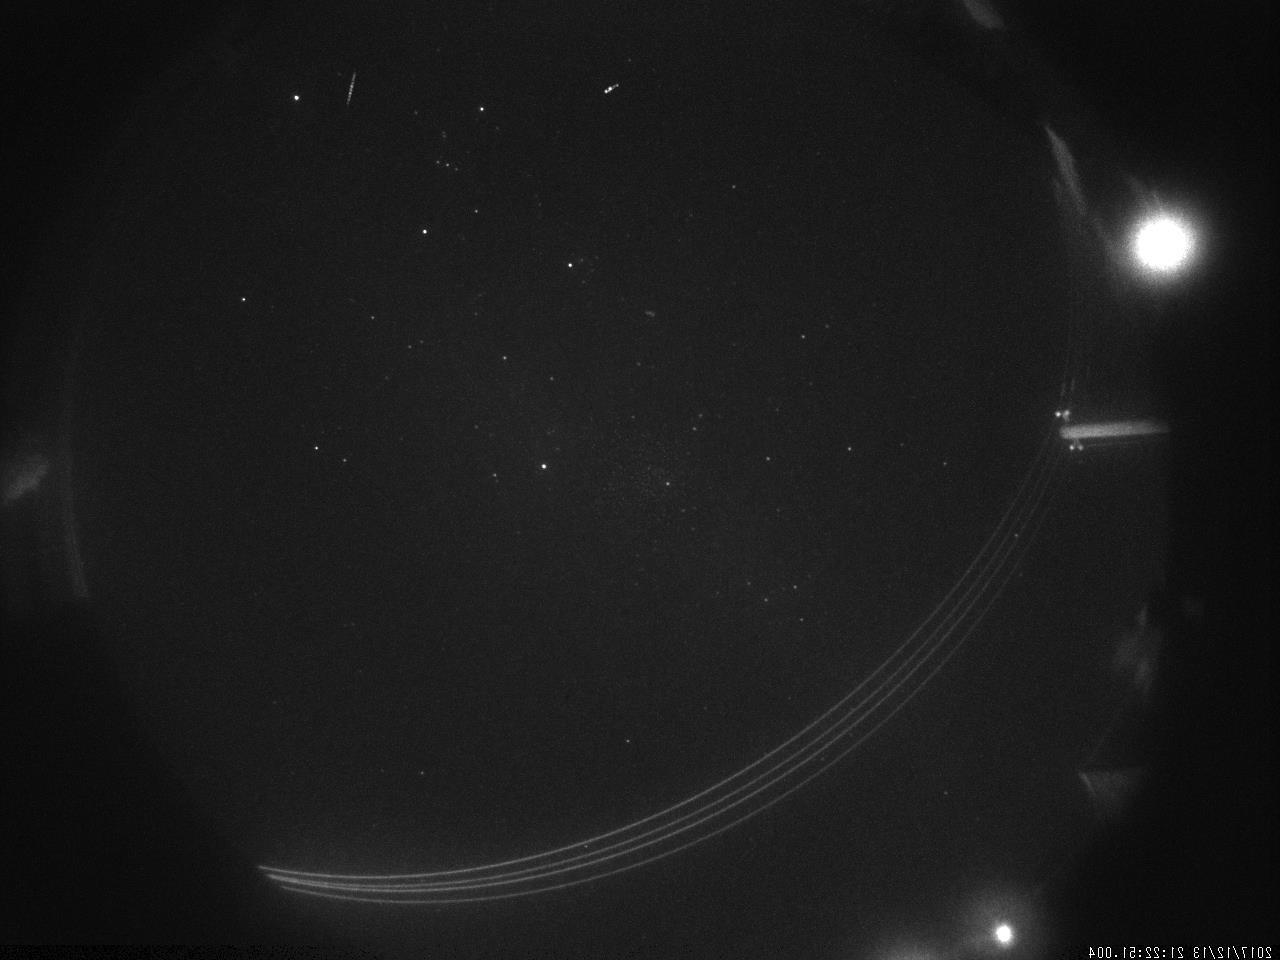meteor: (599, 70, 626, 101), (340, 66, 360, 107)
